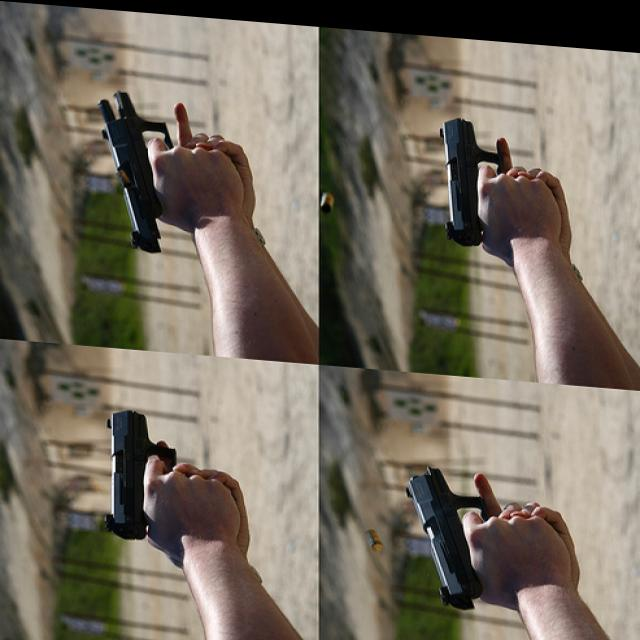handgun: (88, 87, 174, 254), (402, 462, 486, 604), (104, 406, 178, 541), (432, 109, 500, 244)
